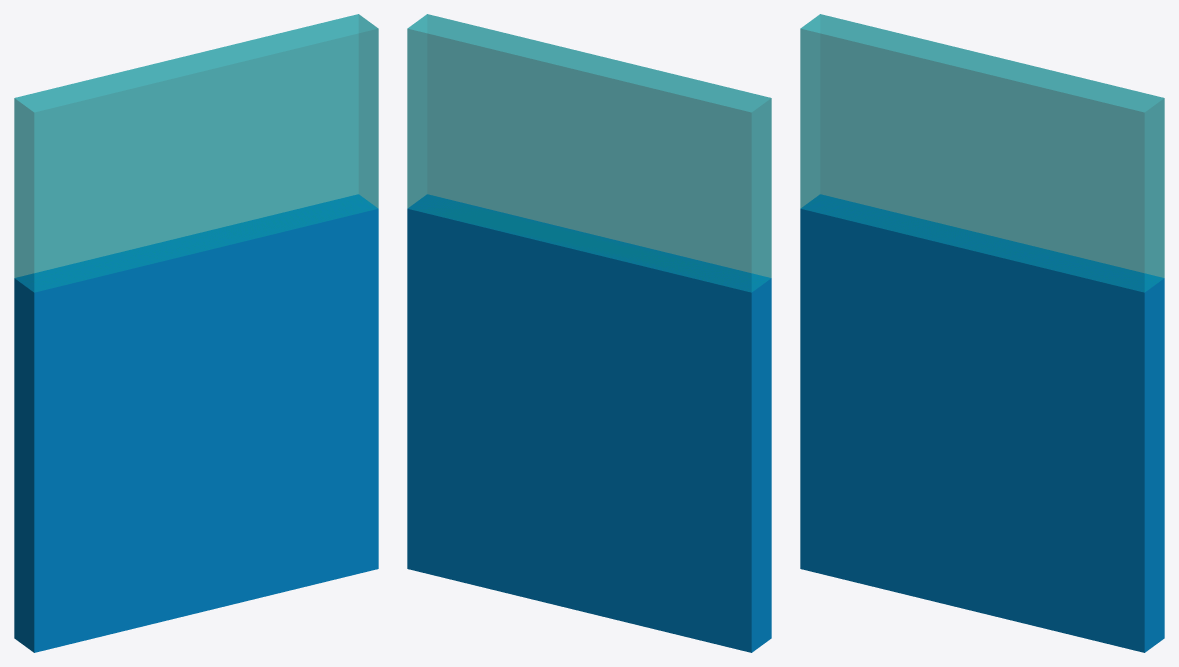
The picture shows the model from 3 angles, left to right: view 1: azimuth 30°, elevation 25°; view 2: azimuth 150°, elevation 25°; view 3: azimuth 330°, elevation 25°; orthographic projection.
Parts seen in each view (by area): view 1: 3, 立方体.009; view 2: 3, 立方体.009; view 3: 3, 立方体.009.
Boxes of the visible parts, x1=… form: 3: x1=14, y1=194, x2=378, y2=652; 立方体.009: x1=14, y1=14, x2=378, y2=292; 3: x1=407, y1=194, x2=771, y2=652; 立方体.009: x1=407, y1=14, x2=771, y2=292; 3: x1=800, y1=194, x2=1164, y2=652; 立方体.009: x1=800, y1=14, x2=1164, y2=292.
Size of the model in its own units: 2000 by 3000 by 200.
